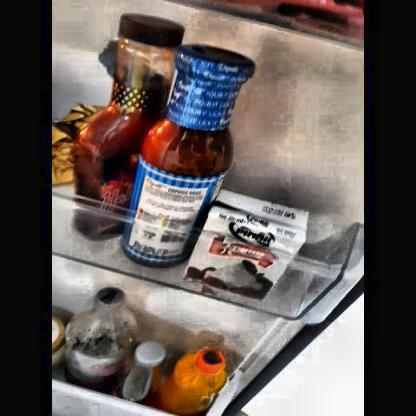heavy_cream: (193, 196, 301, 301)
